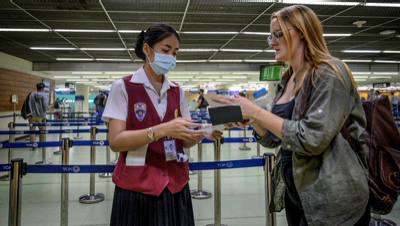with_mask: (147, 44, 178, 77)
without_mask: (268, 24, 299, 62)
